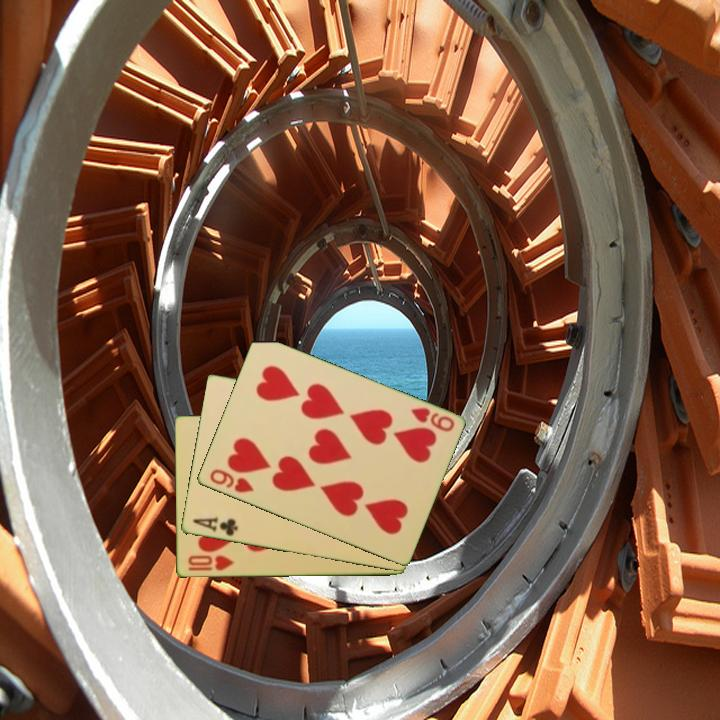10h: (184, 552, 237, 574)
9h: (407, 404, 457, 435), (206, 466, 256, 496)
Ac: (189, 514, 241, 539)
